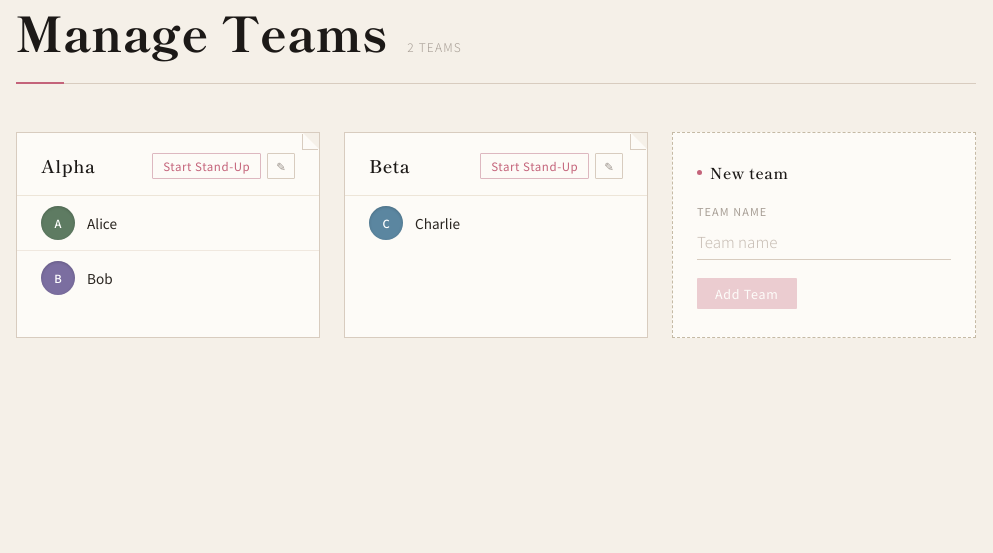
Test: ManageTeams › adding a team creates a new TeamCard
The width and height of the screenshot is (993, 553).
Type "Gamma" into the field labelled "Team Name" at (824, 242), box [697, 224, 951, 260]
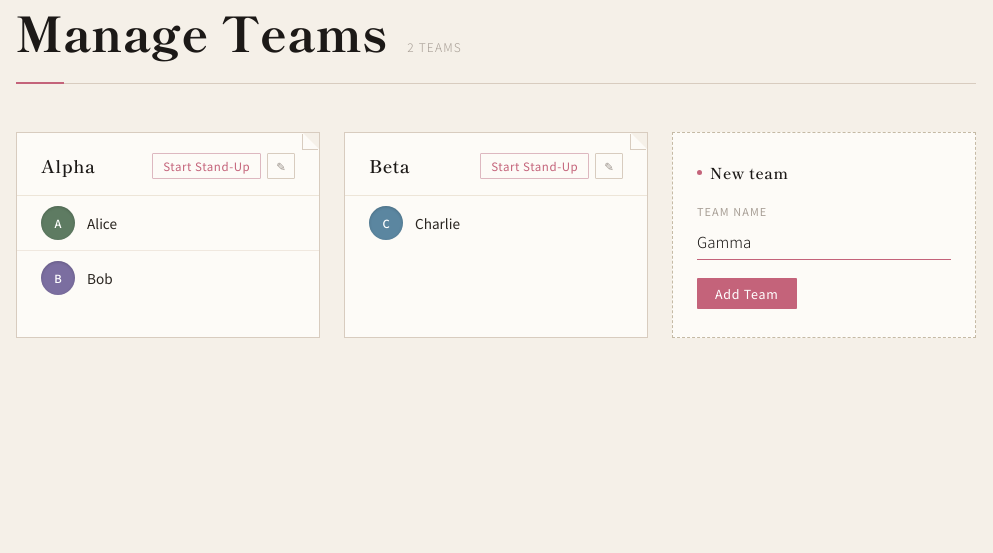
Click the button "Add Team" at (747, 294), box [697, 278, 797, 309]
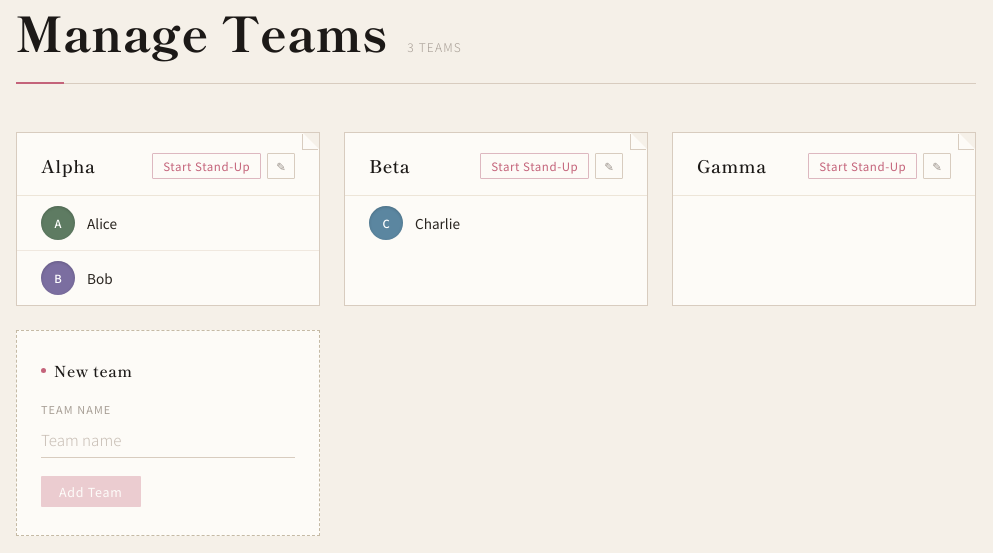
Check: the heading "Gamma" is shown, box [697, 153, 767, 178]
